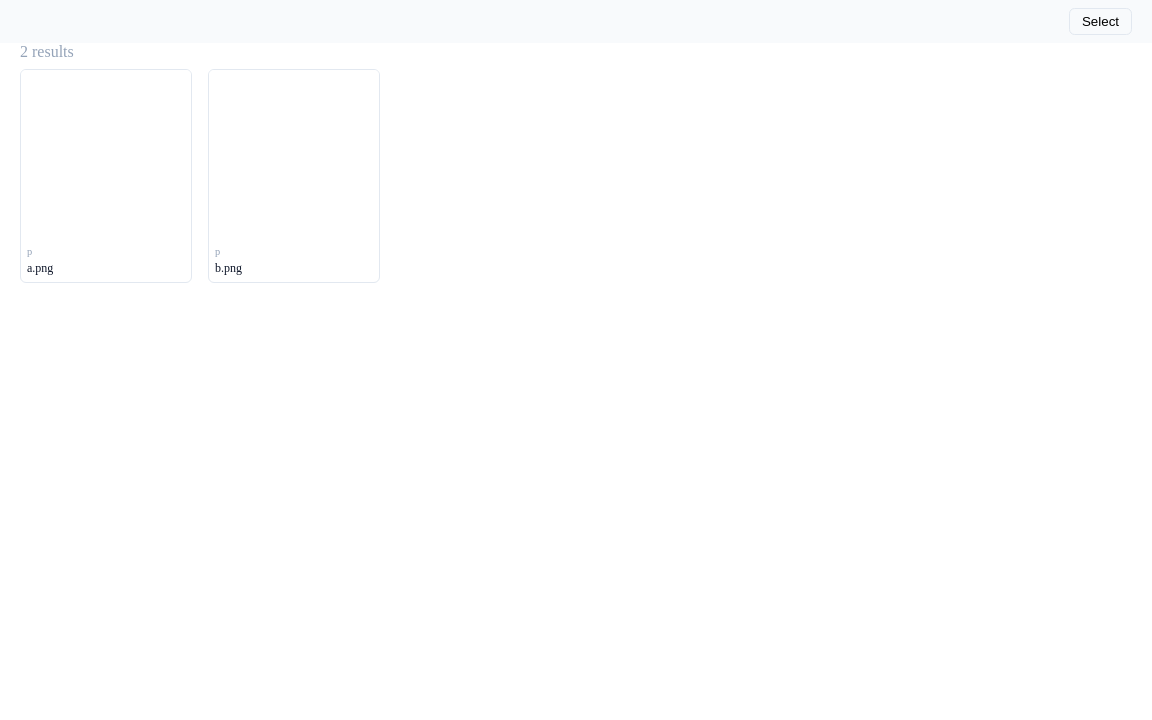
Test: AssetGrid batch tagging › clears selection when the results change
Click the button with class "select-toggle".
click(1100, 21)  # box [1069,8,1132,35]
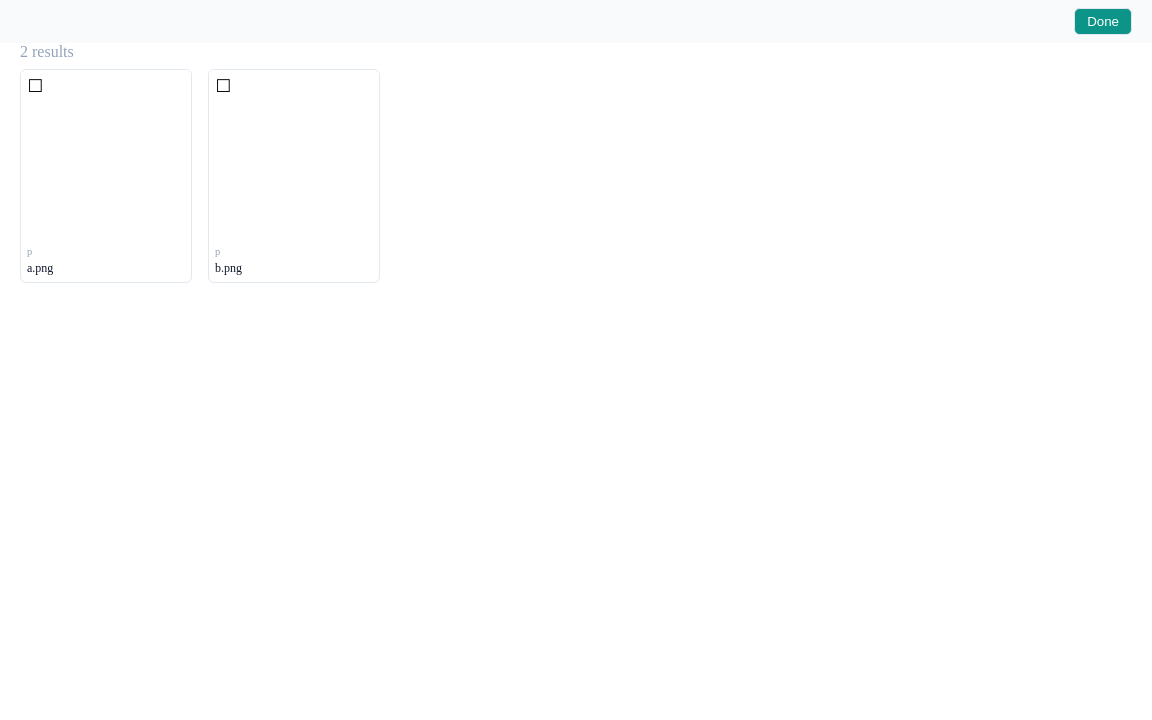
Click the 1st element with class "asset-image-container".
click(106, 155)  # box [21,70,191,240]
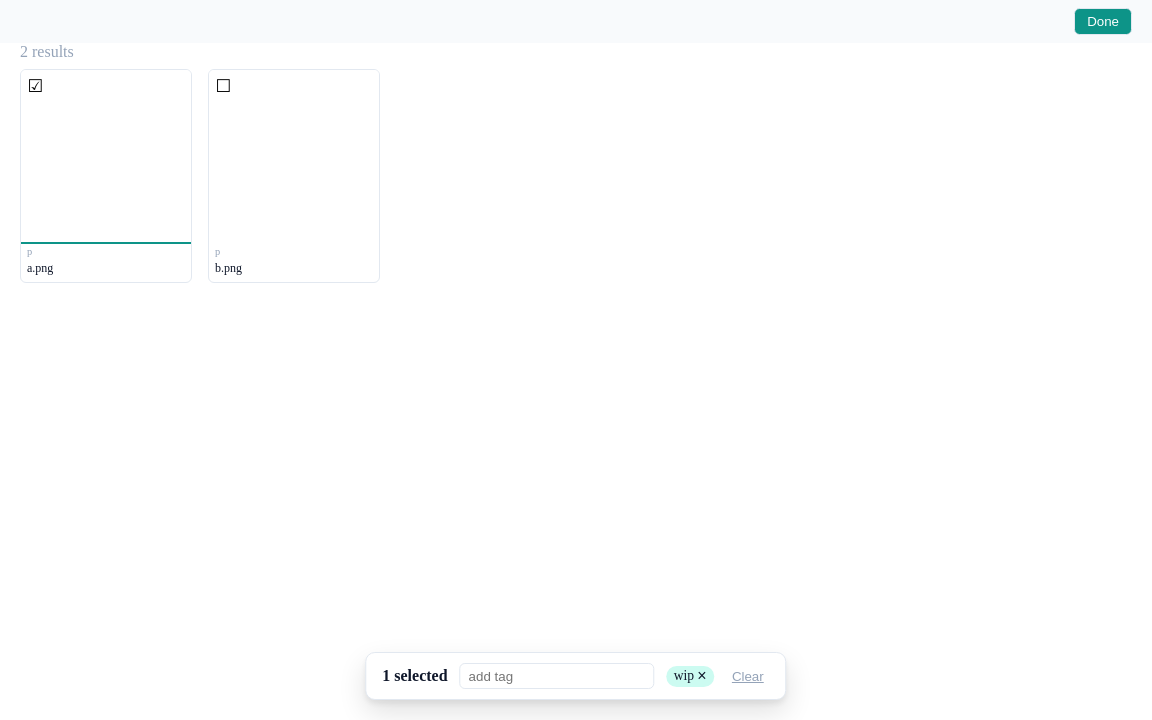
Expected: the element with class "batch-bar" is shown, [365,652,787,700]
